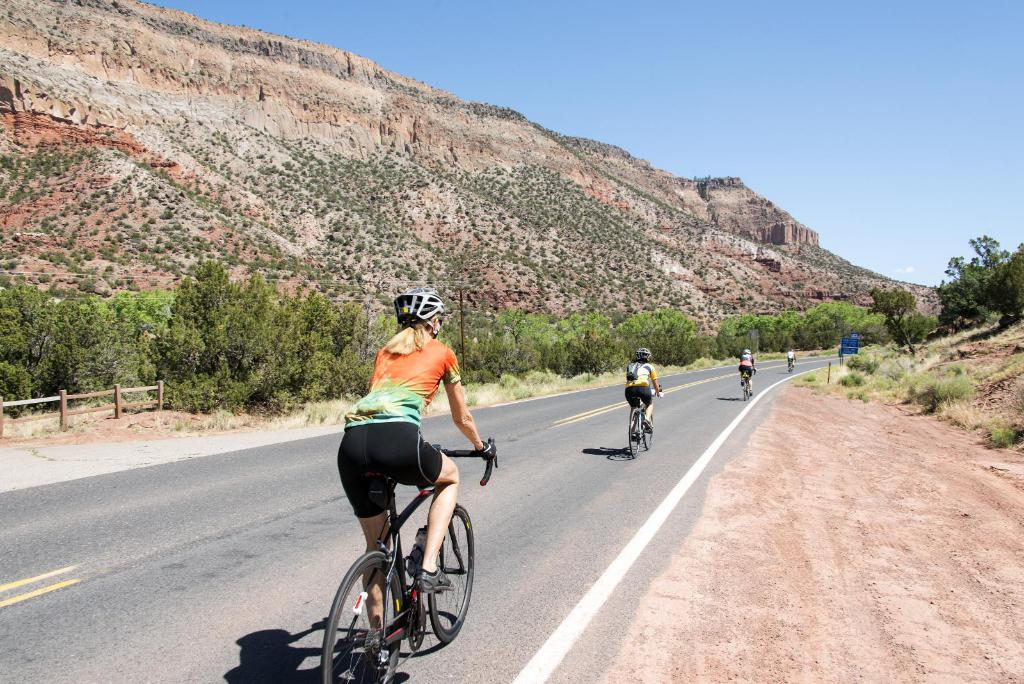Bike: (298, 407, 519, 684)
